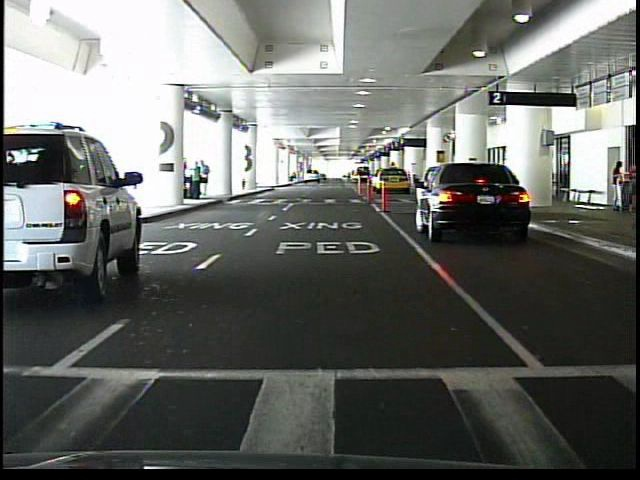person: (609, 162, 624, 215), (188, 160, 202, 200), (200, 161, 212, 198)
